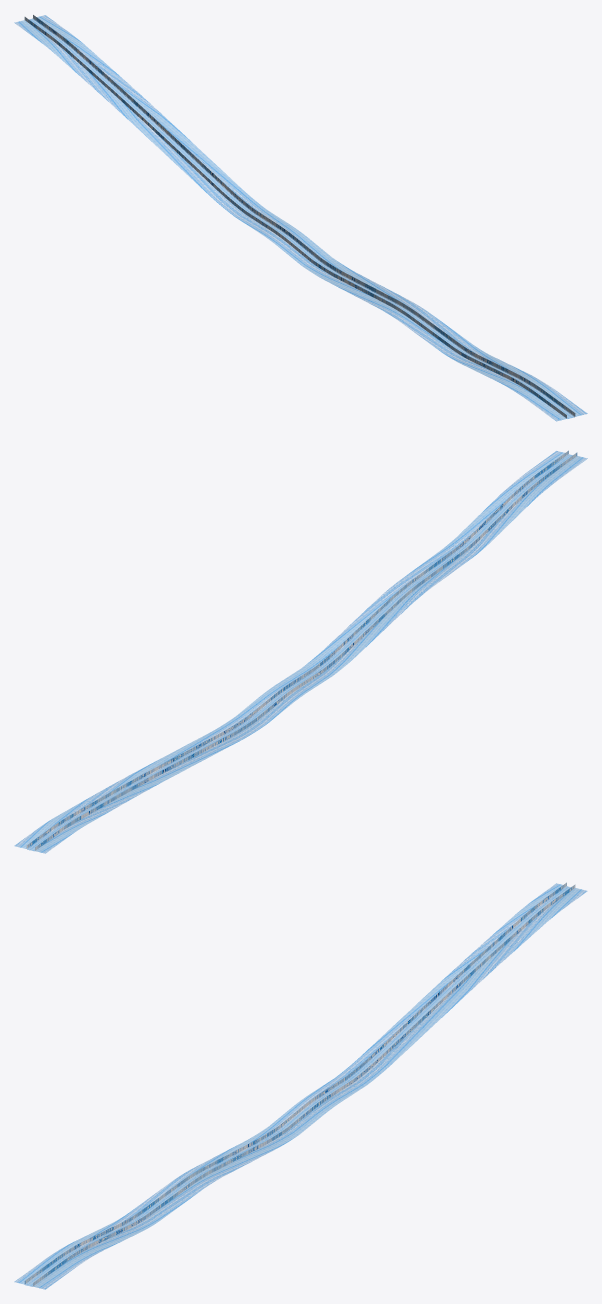
The model's file is snow track3_1.fbx.
3 renders of one model, top to bottom at view 1: azimuth 30°, elevation 25°; view 2: azimuth 150°, elevation 25°; view 3: azimuth 330°, elevation 25°, orthographic.
Parts seen in each view (by area): view 1: Plane, Plane.012, Plane.013, Plane.014; view 2: Plane, Plane.012, Plane.014, Plane.013; view 3: Plane, Plane.012, Plane.014, Plane.013.
Part boxes in pixels (x1,y1,x2,y2): Plane: [14, 15, 587, 421]; Plane.012: [29, 18, 574, 418]; Plane.013: [33, 15, 575, 416]; Plane.014: [24, 17, 566, 418]; Plane: [14, 451, 587, 853]; Plane.012: [27, 454, 572, 851]; Plane.014: [35, 452, 577, 850]; Plane.013: [26, 450, 568, 848]; Plane: [14, 883, 587, 1289]; Plane.012: [25, 886, 570, 1286]; Plane.014: [24, 882, 566, 1284]; Plane.013: [33, 884, 575, 1286].
Size of the model in its own units: 1142 by 1265 by 33976.
Materials: 1 (1 with a texture image).
